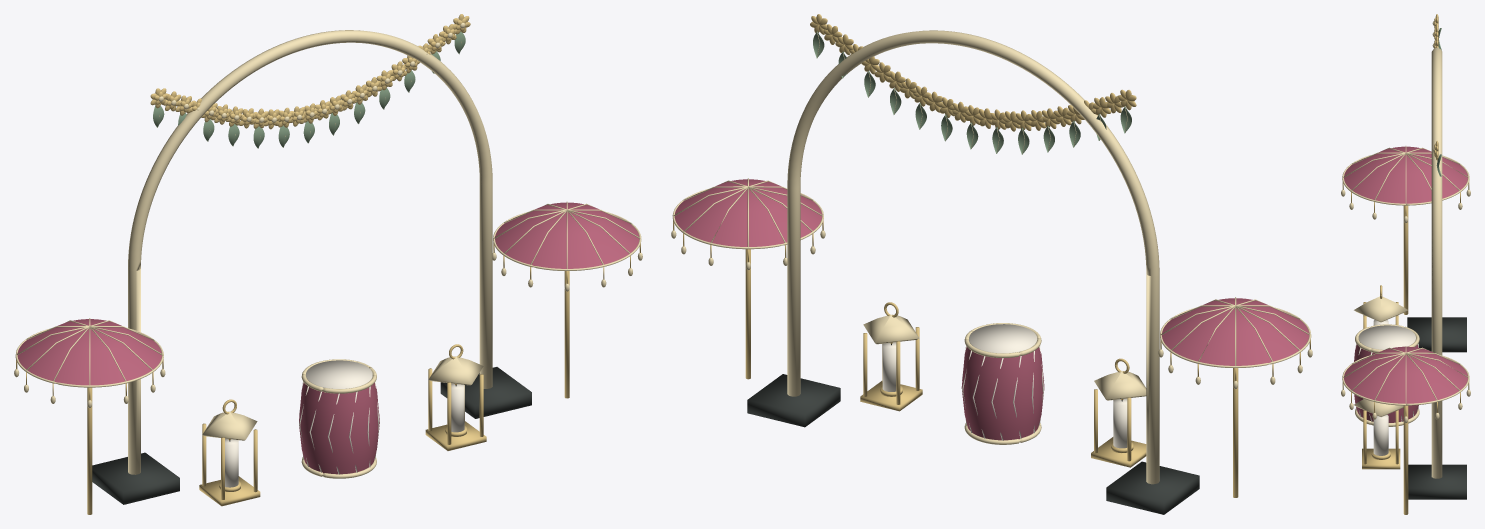
The model's file is scene-festive-entry.glb.
3 views of the same model, side by side, from view 1: azimuth 30°, elevation 25°; view 2: azimuth 150°, elevation 25°; view 3: azimuth 270°, elevation 25° (orthographic). The views are drawn at different scales.
Visible parts, largest first — view 1: canopy-7, arch-frame-0, drum-12, feet-1, petals-2, spokes-9, roof-17, leaf-4, base-16, posts-18, skin-13, pole-6 (+3 smaller); view 2: arch-frame-0, canopy-7, drum-12, feet-1, petals-2, leaf-4, spokes-9, roof-17, base-16, skin-13, posts-18, pole-6 (+3 smaller); view 3: canopy-7, arch-frame-0, feet-1, spokes-9, pole-6, roof-17, skin-13, rim-8, wax-19, base-16, drum-12, rims-14 (+4 smaller).
Boxes of the visible parts, <box> form: canopy-7: <box>17,202,639,385</box>; arch-frame-0: <box>128,30,492,474</box>; drum-12: <box>299,382,379,474</box>; feet-1: <box>92,367,531,504</box>; petals-2: <box>150,14,470,129</box>; spokes-9: <box>16,201,640,385</box>; roof-17: <box>202,356,483,440</box>; leaf-4: <box>153,31,465,148</box>; base-16: <box>199,421,486,506</box>; posts-18: <box>202,368,483,499</box>; skin-13: <box>306,360,372,388</box>; pole-6: <box>87,271,569,514</box>; arch-frame-0: <box>787,30,1159,484</box>; canopy-7: <box>674,179,1309,365</box>; drum-12: <box>961,346,1044,440</box>; feet-1: <box>747,374,1199,514</box>; petals-2: <box>810,14,1136,131</box>; leaf-4: <box>813,31,1131,154</box>; spokes-9: <box>673,178,1309,365</box>; roof-17: <box>863,314,1146,400</box>; base-16: <box>860,381,1146,467</box>; skin-13: <box>969,324,1037,353</box>; posts-18: <box>863,327,1131,461</box>; pole-6: <box>745,249,1238,497</box>; canopy-7: <box>1344,146,1467,403</box>; arch-frame-0: <box>1431,48,1442,478</box>; feet-1: <box>1407,317,1466,499</box>; spokes-9: <box>1343,146,1468,403</box>; pole-6: <box>1403,205,1408,514</box>; roof-17: <box>1354,296,1407,416</box>; skin-13: <box>1358,325,1415,349</box>; rim-8: <box>1342,155,1469,405</box>; wax-19: <box>1373,320,1388,455</box>; base-16: <box>1362,448,1400,469</box>; drum-12: <box>1354,344,1418,422</box>; rims-14: <box>1355,324,1419,426</box>.
Bounding box in the file's own units: 4.84 × 3.09 × 1.04.
